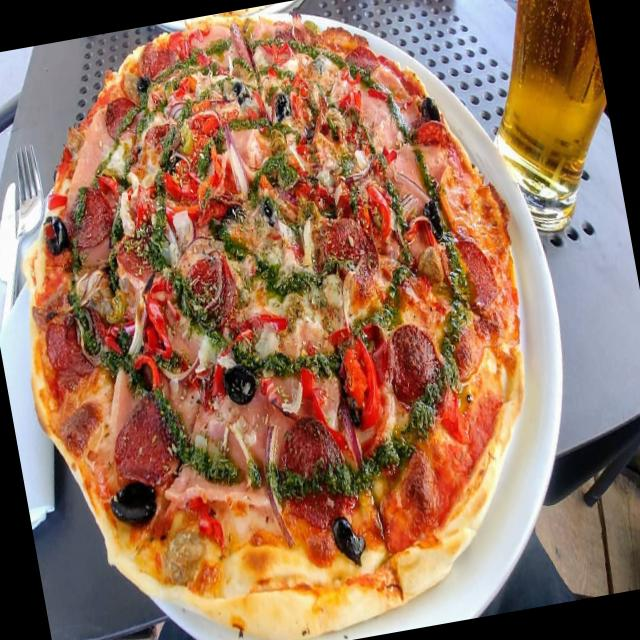black_olives: (324, 508, 376, 576), (106, 476, 158, 532), (218, 358, 256, 407), (40, 208, 72, 254), (215, 198, 252, 235), (414, 86, 440, 130), (422, 194, 444, 240), (256, 194, 278, 228), (272, 92, 292, 123), (130, 72, 152, 97)
pepperoni: (273, 414, 351, 536), (107, 384, 185, 495), (382, 317, 444, 408), (178, 242, 240, 330), (438, 232, 501, 318), (322, 215, 377, 292), (42, 316, 100, 382), (59, 178, 112, 250), (102, 94, 146, 144)
pizza: (21, 10, 527, 640)
